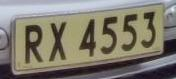3: (138, 10, 160, 53)
4: (75, 14, 100, 63)
5: (99, 12, 121, 60), (119, 12, 142, 56)
R: (19, 21, 49, 66)
X: (46, 19, 71, 64)
